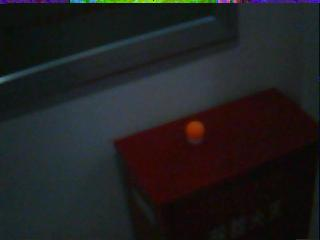oball: (185, 120, 205, 139)
